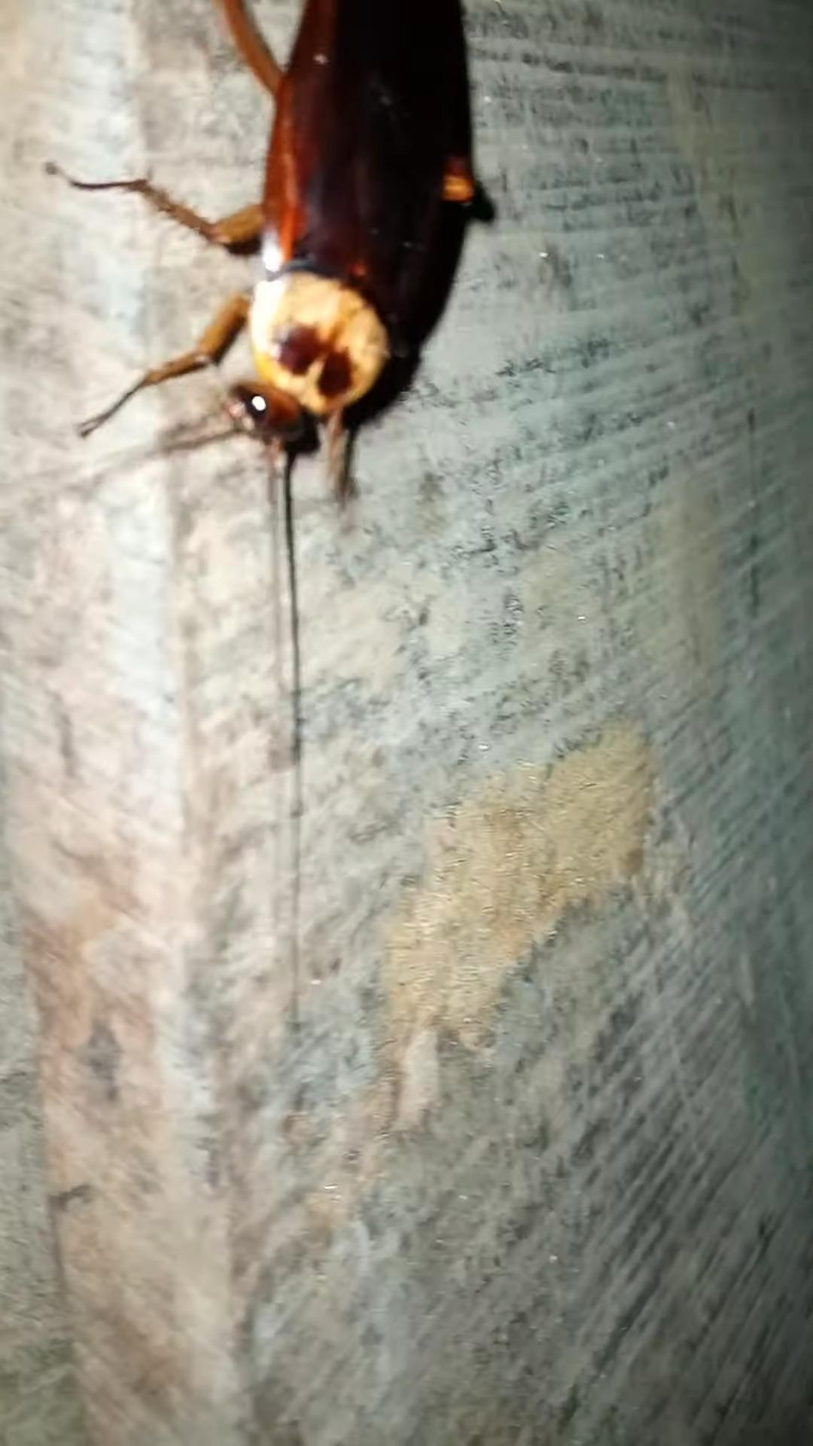cockroach: (114, 0, 502, 558)
